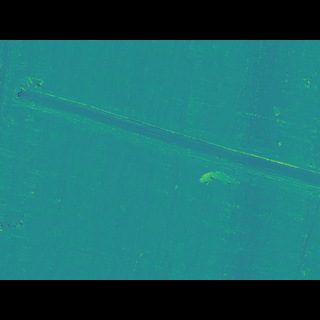Loch: (13, 94, 319, 189)
